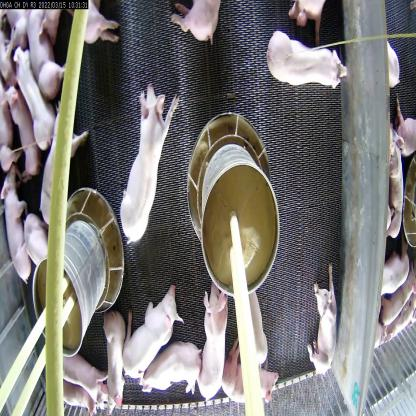Pig: (113, 79, 179, 244), (114, 270, 182, 386), (185, 271, 232, 406), (261, 20, 347, 93), (142, 317, 204, 403), (215, 339, 285, 415), (300, 260, 344, 379), (98, 300, 136, 412), (1, 172, 34, 289), (21, 43, 55, 151), (240, 270, 270, 378), (163, 0, 230, 44), (24, 212, 50, 266)
